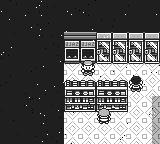main: (80, 60, 96, 76)
no-caminable: (1, 0, 160, 143), (96, 31, 159, 64), (65, 81, 127, 111), (65, 41, 96, 64), (64, 32, 96, 40)
npc: (129, 76, 144, 92), (97, 108, 111, 124)
